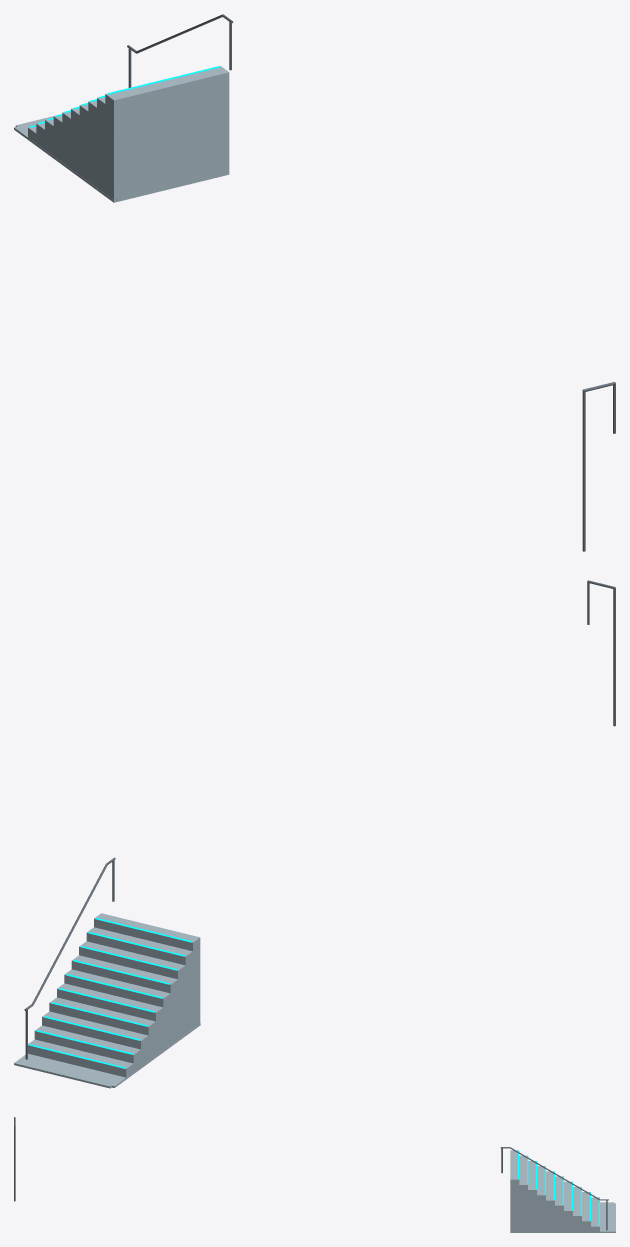
Rendered from tt_pool_access_lap_b.glb.
3 views of the same model, one above another, from view 1: azimuth 30°, elevation 25°; view 2: azimuth 150°, elevation 25°; view 3: azimuth 270°, elevation 25° (orthographic). The views are drawn at different scales.
Visible parts, largest first — view 1: Lap_Stair_Tile, Ladder_Stringers; view 2: Lap_Stair_Tile, Step_Nosing_Cyan; view 3: Lap_Stair_Tile, Step_Nosing_Cyan, Pool_Handrail.
Part boxes in pixels (x1,y1,x2,y2): Lap_Stair_Tile: [14, 66, 229, 202]; Ladder_Stringers: [582, 382, 615, 551]; Lap_Stair_Tile: [14, 913, 200, 1088]; Step_Nosing_Cyan: [28, 918, 192, 1068]; Lap_Stair_Tile: [510, 1150, 615, 1232]; Step_Nosing_Cyan: [518, 1150, 599, 1226]; Pool_Handrail: [500, 1147, 608, 1200].
Size of what is drawn, in the model's own units: 2.3 by 2.92 by 18.77.
3 materials, 2 textured.
